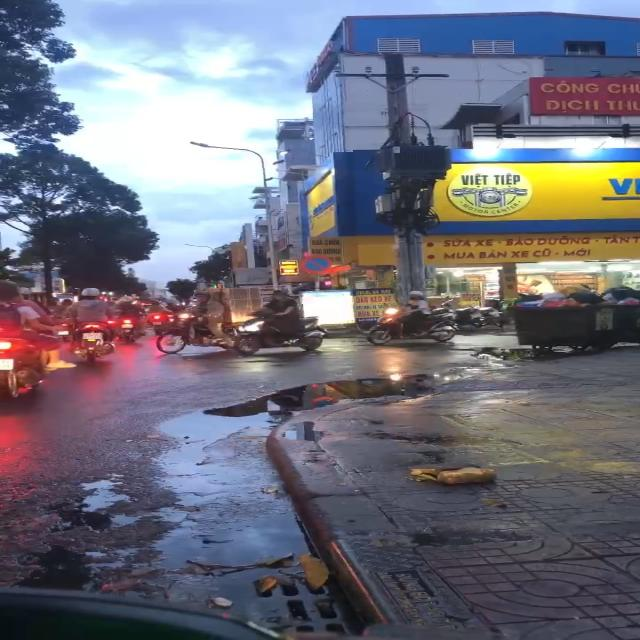Bien bao cam do xe: (300, 254, 336, 274)
